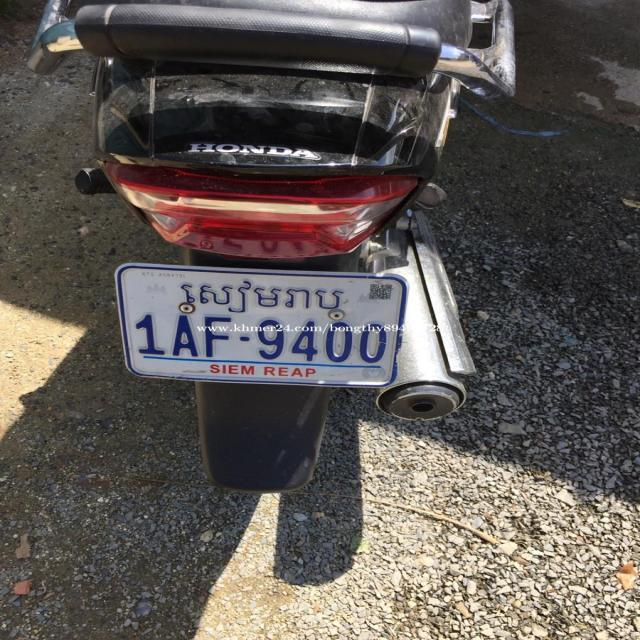Siem_Reap: (180, 280, 346, 316)
